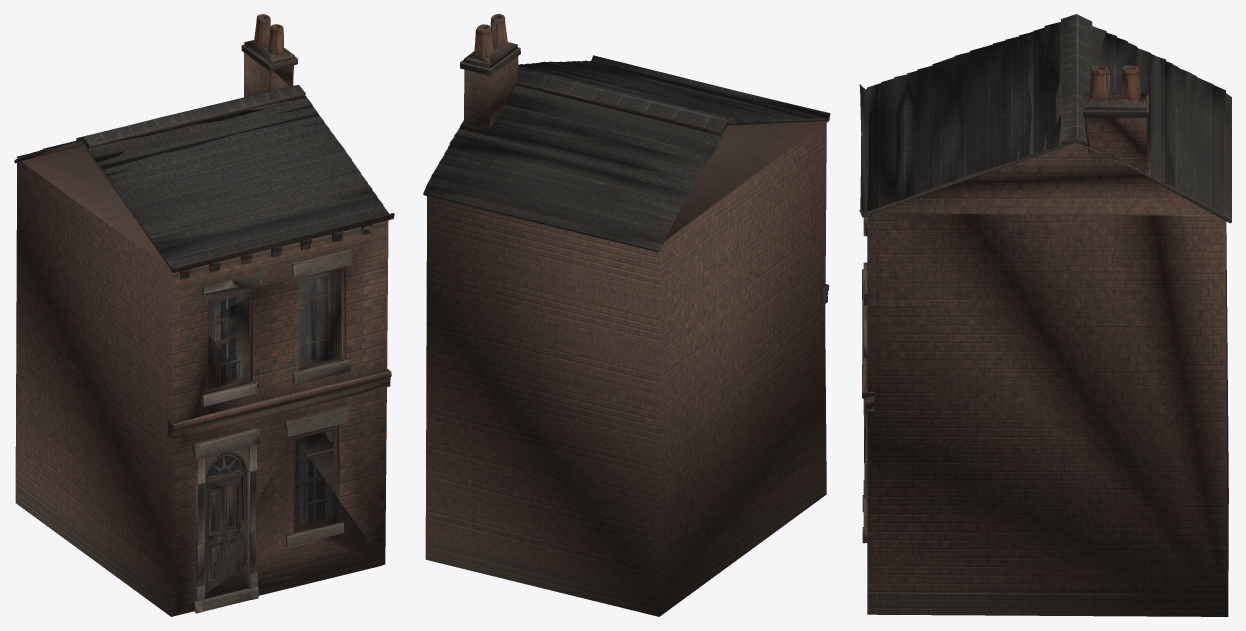
Rendered from SM_House_AR01.glb.
3 renders of one model, left to right at view 1: azimuth 30°, elevation 25°; view 2: azimuth 150°, elevation 25°; view 3: azimuth 270°, elevation 25°, orthographic. The views are drawn at different scales.
Bounding box in the file's own units: 0.4683 × 0.9512 × 0.5918.
Materials: 1 (1 with a texture image).
